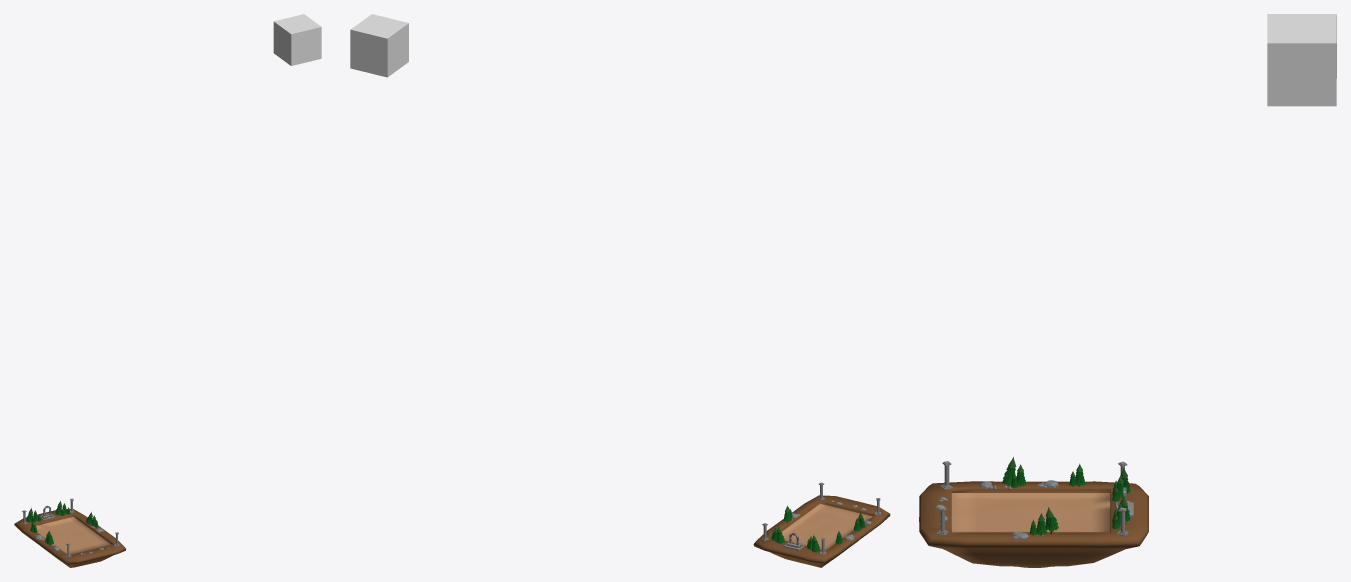
Rendered from map.fbx.
3 renders of one model, left to right at view 1: azimuth 30°, elevation 25°; view 2: azimuth 150°, elevation 25°; view 3: azimuth 270°, elevation 25°, orthographic. The views are drawn at different scales.
Parts seen in each view (by area): view 1: Cube.001, Cube.030; view 2: Cube.001, Cube.030; view 3: Cube.001, Cube.030.
Boxes of the visible parts, x1,y1,x2,y2 form: Cube.001: (14,509,125,567); Cube.030: (273,14,321,65); Cube.001: (753,495,890,567); Cube.030: (350,14,408,77); Cube.001: (919,481,1148,567); Cube.030: (1267,14,1336,106).
Size of the model in its own units: 2245 by 2607 by 1204.
